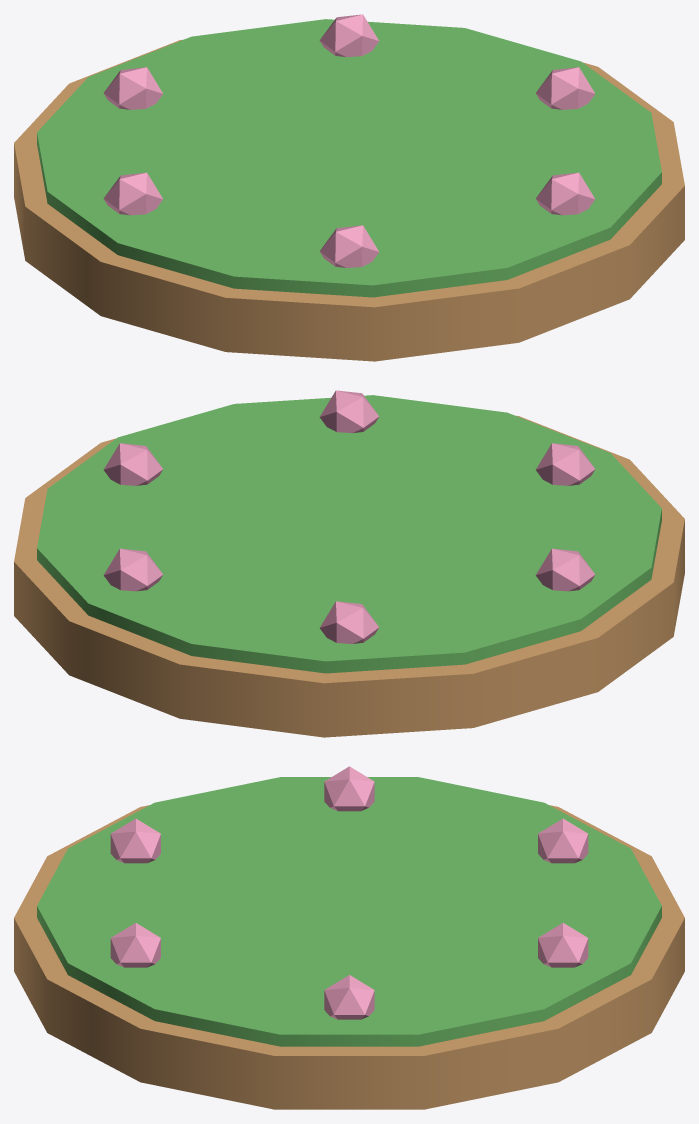
File: floorRound.glb
3 views of the same model, one above another, from view 1: azimuth 30°, elevation 25°; view 2: azimuth 150°, elevation 25°; view 3: azimuth 270°, elevation 25° (orthographic).
Size of the model in its own units: 1.99 by 0.3166 by 2.04.
